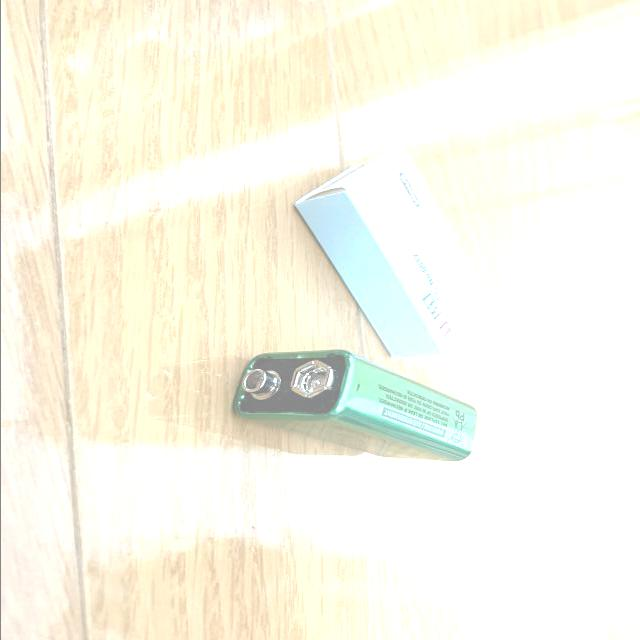9V: (232, 351, 476, 462)
